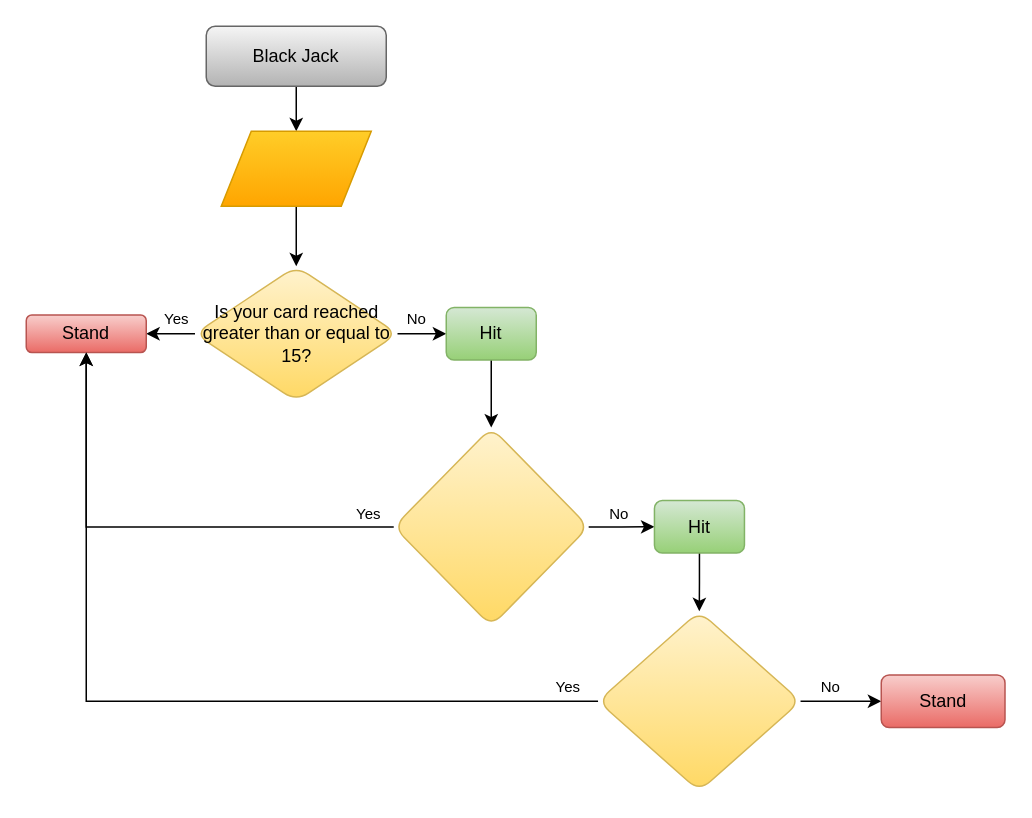
The diagram is 1032 pixels wide and 818 high, and some of its shapes have lost their labels. The centre of each missing label's shape, as x and y in pixels:
"Draw Cards" belongs at point (295, 168).
"Is your card reached greater than 18 but not higher than 20 or equal to 18?" belongs at point (490, 526).
"Is your card reached lower than 21 but not less than 18 or equal to 21?" belongs at point (699, 700).
